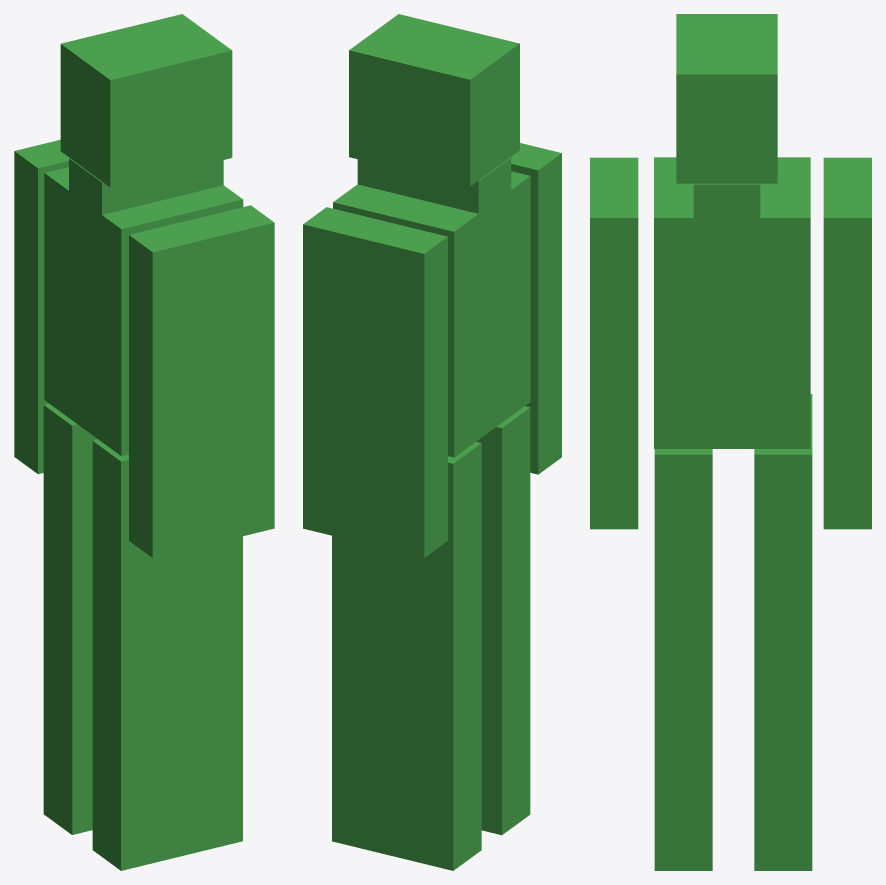
The model's file is anitahuman1.glb.
3 renders of one model, left to right at view 1: azimuth 30°, elevation 25°; view 2: azimuth 150°, elevation 25°; view 3: azimuth 270°, elevation 25°, orthographic. The views are drawn at different scales.
Parts seen in each view (by area): view 1: LLeg, LArm, Head, Torso, RLeg, RArm, Neck; view 2: RLeg, RArm, Head, Torso, LLeg, LArm, Neck; view 3: Torso, RLeg, LLeg, LArm, RArm, Head, Neck.
Boxes of the visible parts, x1,y1,x2,y2 form: LLeg: (92,439,242,870); LArm: (129,205,274,557); Head: (60,14,232,187); Torso: (44,167,243,456); RLeg: (43,403,97,834); RArm: (14,139,69,474); Neck: (69,158,223,214); RLeg: (332,441,481,870); RArm: (303,207,447,557); Head: (349,14,519,186); Torso: (333,171,530,457); LLeg: (476,406,530,835); LArm: (511,143,561,474); Neck: (357,157,511,213); Torso: (654,157,810,448); RLeg: (754,394,812,870); LLeg: (654,449,712,870); LArm: (590,157,638,529); RArm: (823,157,871,529); Head: (676,14,777,183); Neck: (693,183,760,218).
Bounding box in the file's own units: 0.3545 × 2.18 × 0.6979.
